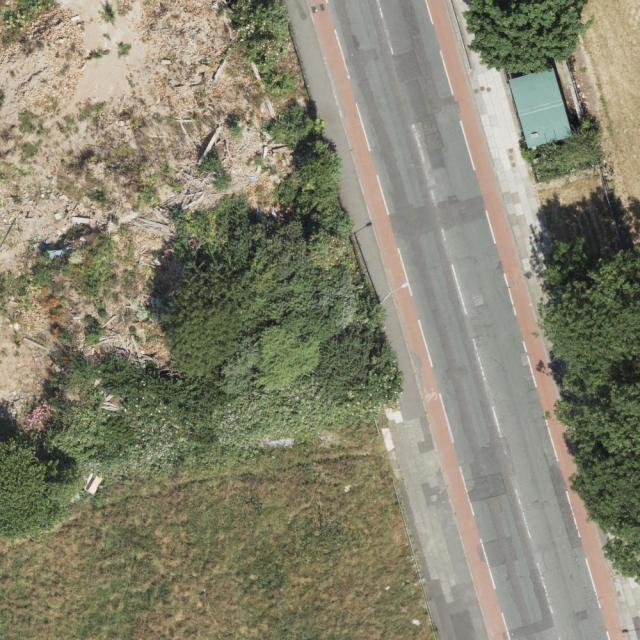roof: (509, 68, 574, 150)
